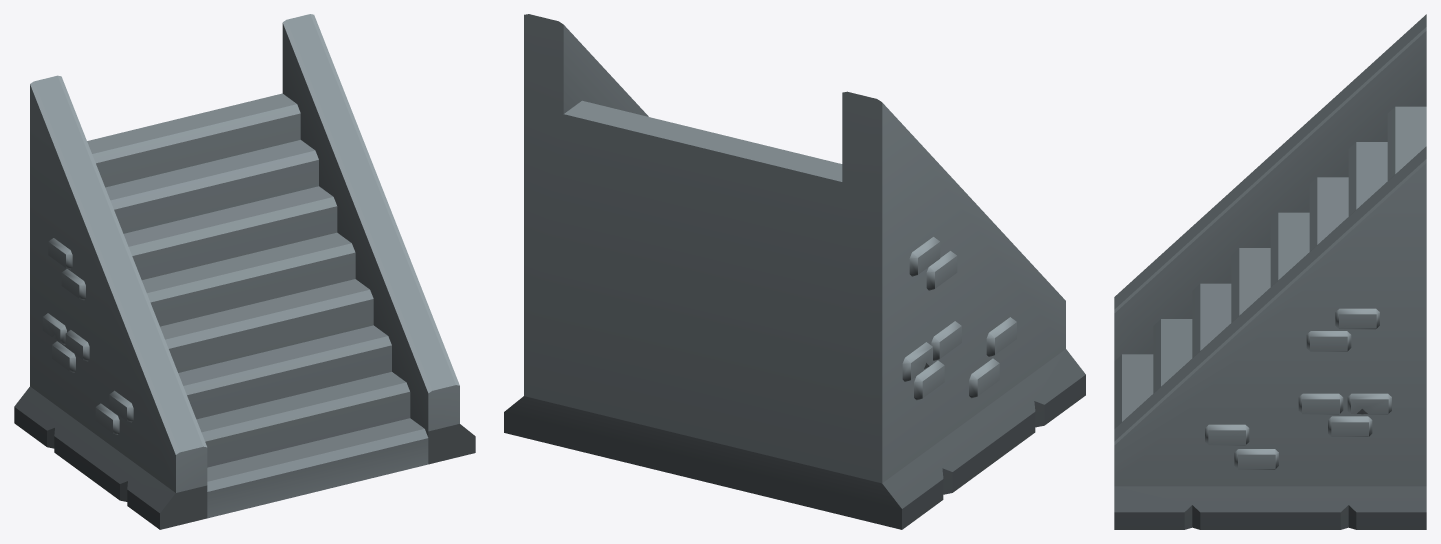
Rendered from stairs.gltf.
The picture shows the model from 3 angles, left to right: view 1: azimuth 30°, elevation 25°; view 2: azimuth 150°, elevation 25°; view 3: azimuth 270°, elevation 25°; orthographic projection. The views are drawn at different scales.
Visible parts, largest first — view 1: stairs; view 2: stairs; view 3: stairs.
Boxes of the visible parts, box(x1,y1,x2,y2) form: stairs: box(14, 14, 475, 529); stairs: box(504, 14, 1085, 529); stairs: box(1114, 14, 1426, 529).
Size of the model in its own units: 5 by 5.1 by 4.
1 material, 1 textured.
